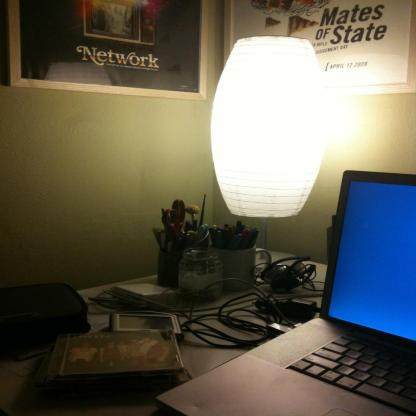board: (240, 176, 416, 413)
